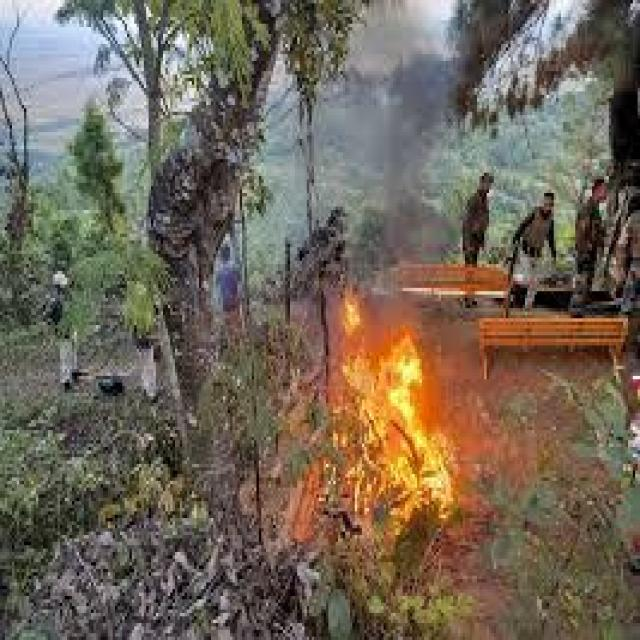fire: (329, 282, 456, 535)
